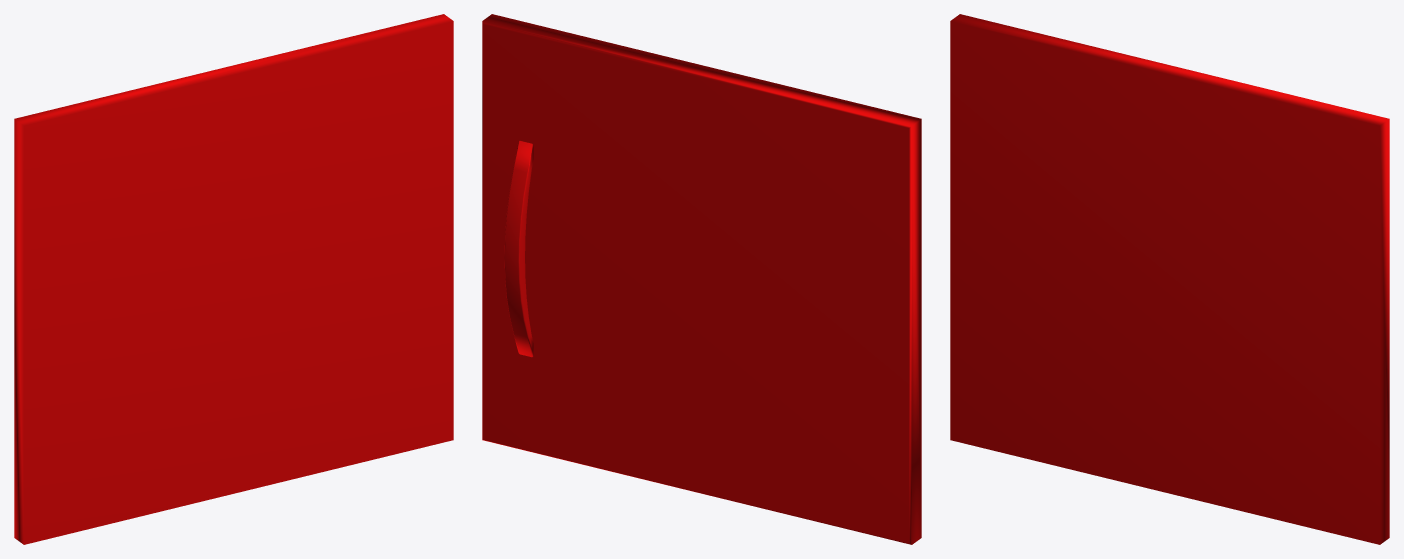
The model's file is Table_1_2.fbx.
3 renders of one model, left to right at view 1: azimuth 30°, elevation 25°; view 2: azimuth 150°, elevation 25°; view 3: azimuth 330°, elevation 25°, orthographic.
Parts seen in each view (by area): view 1: L18:polySurface298; view 2: L18:polySurface298; view 3: L18:polySurface298.
Boxes of the visible parts, box(x1,y1,x2,y2) form: L18:polySurface298: box(14, 14, 453, 544); L18:polySurface298: box(482, 14, 921, 544); L18:polySurface298: box(950, 14, 1389, 544).
Size of the model in its own units: 27.79 by 25.89 by 2.83.
